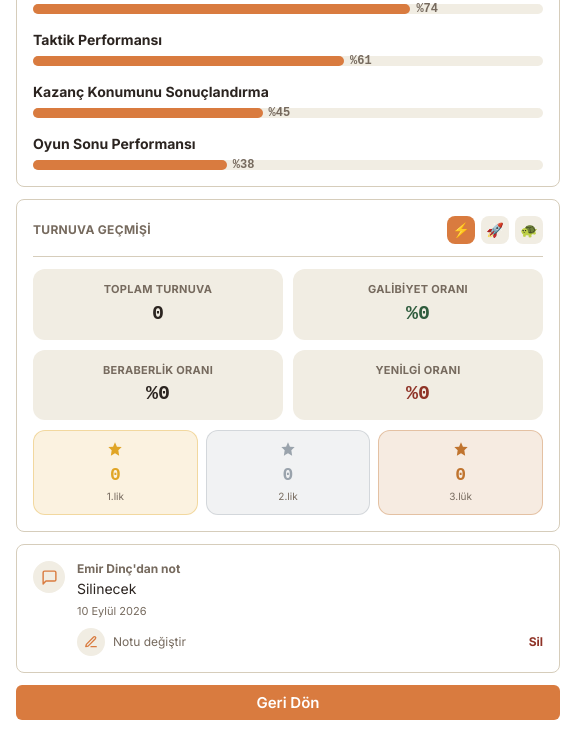
Test: Madde 2026-09-11 (Görsel Turu Aşama E / Madde 9): antrenör öğrenci profilinde hoca notu yönetir › "Sil" DELETE çağırır ve kart placeholder'a döner
(page scrolled)
Check: the text "Silinecek" is shown, box [77,580,136,597]
Click the button "Sil" at [536, 642], box [529,634,543,650]
(page scrolled)
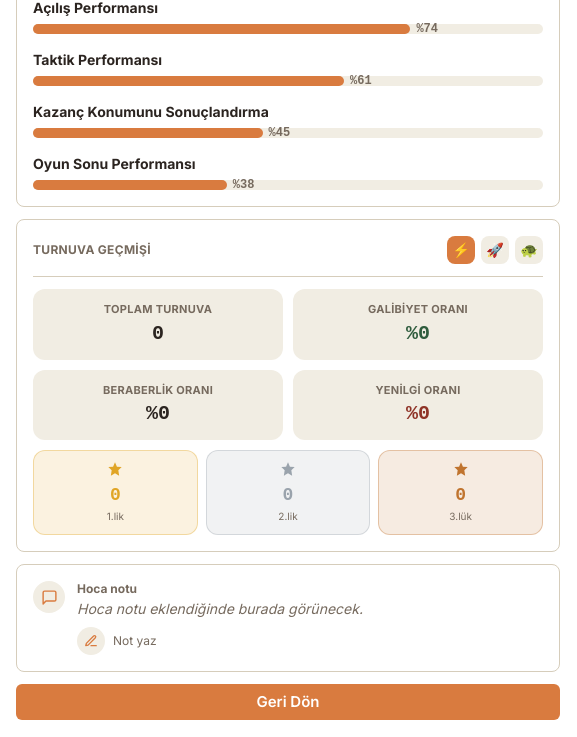
Check: the text "Hoca notu eklendiğinde burada görünecek." is shown, box [77,600,363,617]
